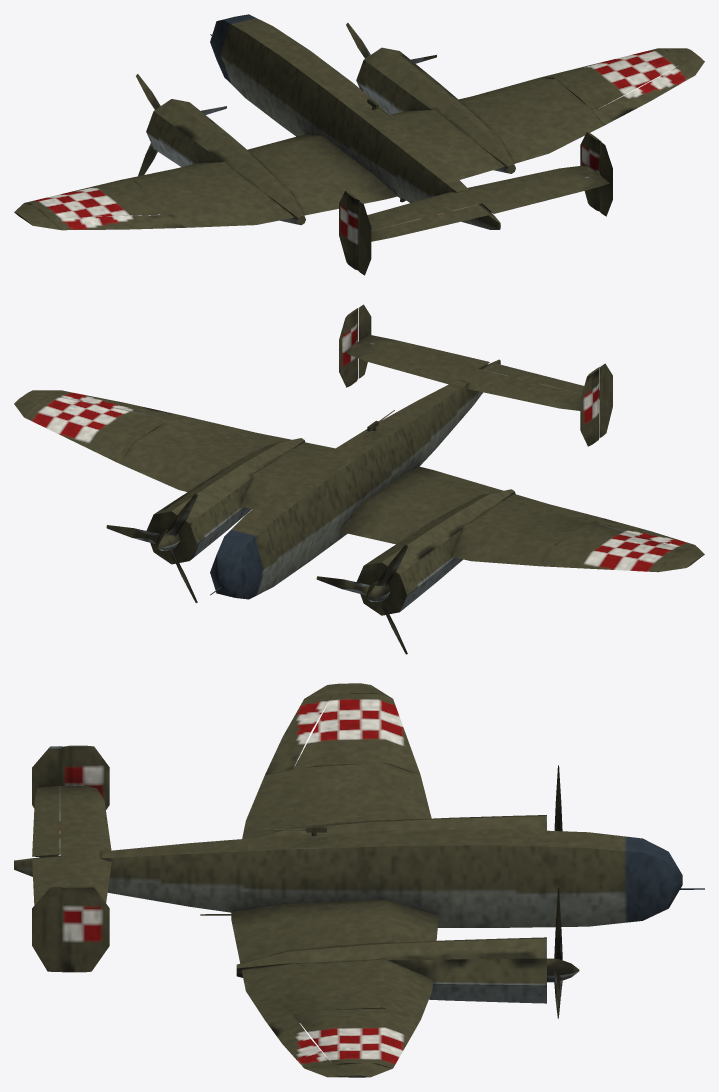
The model's file is PZL37B_LOW.fbx.
3 renders of one model, top to bottom at view 1: azimuth 30°, elevation 25°; view 2: azimuth 150°, elevation 25°; view 3: azimuth 270°, elevation 25°, orthographic. The views are drawn at different scales.
Parts seen in each view (by area): view 1: Chassis, Aileron_D, Aileron_G, Elevator_D, Rudder, Elevator_G, Helice_LS_1; view 2: Chassis, Rudder, Elevator_D, Helice_LS_1, Helice_LS_2, Aileron_D, Elevator_G, Aileron_G; view 3: Chassis, Rudder, Aileron_G, Elevator_G, Aileron_D, Elevator_D, Helice_LS_2.
Part boxes in pixels (<box>): Chassis: <box>14,14,704,270</box>; Aileron_D: <box>593,63,694,124</box>; Aileron_G: <box>50,214,184,230</box>; Elevator_D: <box>482,175,609,213</box>; Rudder: <box>358,141,612,275</box>; Elevator_G: <box>371,204,489,241</box>; Helice_LS_1: <box>136,74,226,176</box>; Chassis: <box>14,308,704,615</box>; Rudder: <box>358,304,612,437</box>; Elevator_D: <box>360,335,489,369</box>; Helice_LS_1: <box>316,544,408,654</box>; Helice_LS_2: <box>106,493,198,602</box>; Aileron_D: <box>49,390,183,419</box>; Elevator_G: <box>482,363,599,398</box>; Aileron_G: <box>593,518,694,549</box>; Chassis: <box>14,683,682,1077</box>; Rudder: <box>32,746,62,971</box>; Aileron_G: <box>265,694,332,774</box>; Elevator_G: <box>32,786,60,857</box>; Aileron_D: <box>265,1014,332,1068</box>; Elevator_D: <box>32,856,60,905</box>; Helice_LS_2: <box>554,888,562,1018</box>.
Bounding box in the file's own units: 1793 × 1335 × 337.
Materials: 1 (1 with a texture image).
